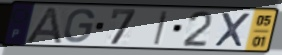2: (181, 9, 215, 48)
7: (109, 7, 139, 46)
A: (23, 6, 64, 45)
G: (62, 8, 97, 45)
I: (151, 10, 170, 47)
X: (212, 11, 253, 49)
